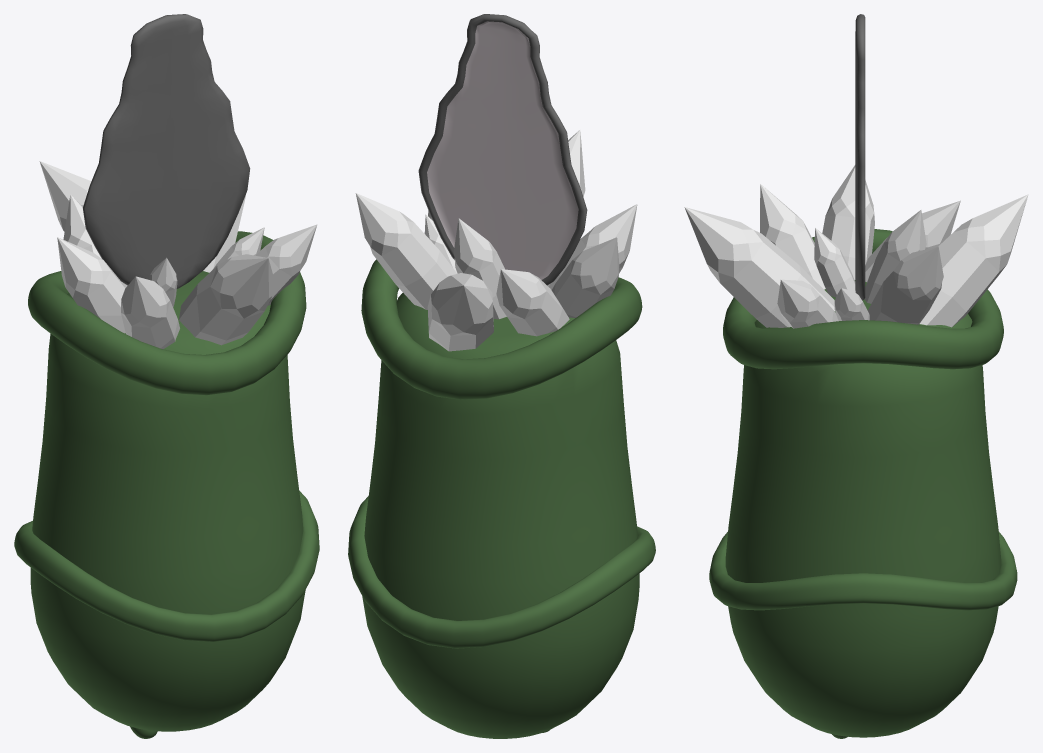
Rendered from Mirror.fbx.
The picture shows the model from 3 angles, left to right: view 1: azimuth 30°, elevation 25°; view 2: azimuth 150°, elevation 25°; view 3: azimuth 270°, elevation 25°; orthographic projection.
Parts seen in each view (by area): view 1: MirrorBody, Mirror, MirrorCrystals; view 2: MirrorBody, Mirror, MirrorCrystals; view 3: MirrorBody, MirrorCrystals, Mirror.
Boxes of the visible parts, x1,y1,x2,y2 form: MirrorBody: [14, 231, 319, 731]; Mirror: [83, 14, 250, 288]; MirrorCrystals: [39, 135, 317, 349]; MirrorBody: [348, 259, 655, 738]; Mirror: [418, 14, 587, 285]; MirrorCrystals: [355, 130, 637, 351]; MirrorBody: [709, 229, 1017, 737]; MirrorCrystals: [684, 165, 1028, 328]; Mirror: [855, 14, 865, 300].
Size of the model in its own units: 0.5058 by 1.31 by 0.5765.
